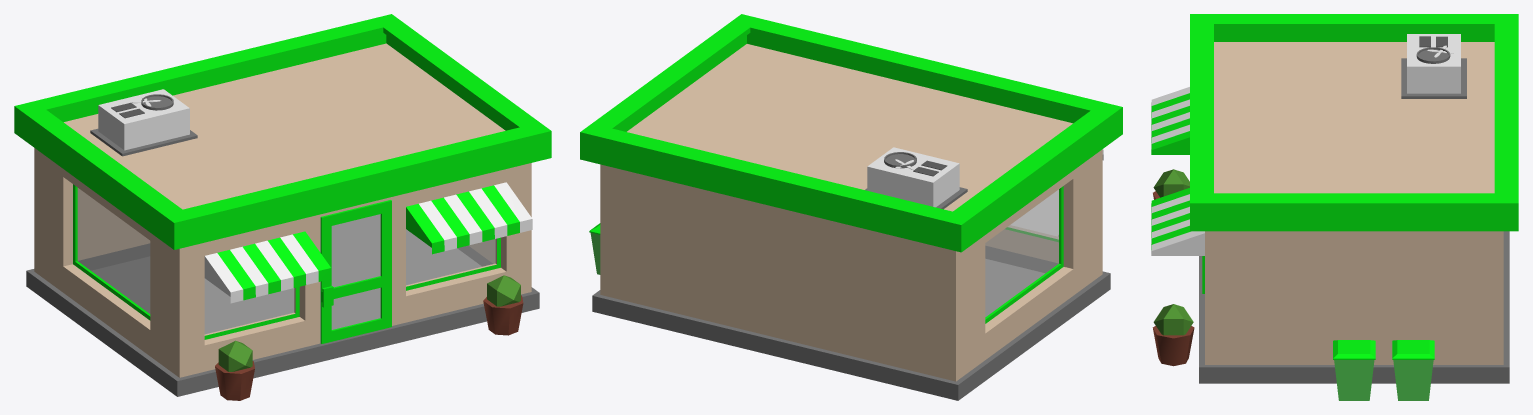
File: small_store3.glb
3 renders of one model, left to right at view 1: azimuth 30°, elevation 25°; view 2: azimuth 150°, elevation 25°; view 3: azimuth 270°, elevation 25°, orthographic. The views are drawn at different scales.
Parts seen in each view (by area): view 1: 3DSMeshMatrix.018, 3DSMeshMatrix.031, 3DSMeshMatrix.029, 3DSMeshMatrix.026, 3DSMeshMatrix.023, 3DSMeshMatrix.005, 3DSMeshMatrix.008, 3DSMeshMatrix.025, 3DSMeshMatrix.024, 3DSMeshMatrix.030, 3DSMeshMatrix.006, 3DSMeshMatrix.013 (+12 smaller); view 2: 3DSMeshMatrix.018, 3DSMeshMatrix.029; view 3: 3DSMeshMatrix.018, 3DSMeshMatrix.029, 3DSMeshMatrix.017, 3DSMeshMatrix.021, 3DSMeshMatrix.023, 3DSMeshMatrix.015, 3DSMeshMatrix.024, 3DSMeshMatrix.022, 3DSMeshMatrix.016, 3DSMeshMatrix.030, 3DSMeshMatrix.025, 3DSMeshMatrix.006 (+1 smaller).
Part boxes in pixels (x1,y1,x2,y2): 3DSMeshMatrix.018: (14,14,551,396); 3DSMeshMatrix.031: (320,200,391,343); 3DSMeshMatrix.029: (98,89,189,150); 3DSMeshMatrix.026: (215,361,254,400); 3DSMeshMatrix.023: (483,295,523,335); 3DSMeshMatrix.005: (204,253,243,303); 3DSMeshMatrix.008: (406,203,444,254); 3DSMeshMatrix.025: (218,340,252,371); 3DSMeshMatrix.024: (487,275,520,306); 3DSMeshMatrix.030: (90,128,197,156); 3DSMeshMatrix.006: (293,231,331,281); 3DSMeshMatrix.013: (469,188,507,238); 3DSMeshMatrix.018: (580,14,1122,400); 3DSMeshMatrix.029: (867,147,959,207); 3DSMeshMatrix.018: (1190,14,1518,383); 3DSMeshMatrix.029: (1407,34,1460,93); 3DSMeshMatrix.017: (1393,360,1433,400); 3DSMeshMatrix.021: (1334,360,1374,400); 3DSMeshMatrix.023: (1152,326,1194,366); 3DSMeshMatrix.015: (1151,231,1204,255); 3DSMeshMatrix.024: (1153,304,1193,335); 3DSMeshMatrix.022: (1333,340,1375,359); 3DSMeshMatrix.016: (1392,340,1434,359); 3DSMeshMatrix.030: (1401,58,1466,98); 3DSMeshMatrix.025: (1153,169,1189,197); 3DSMeshMatrix.006: (1151,131,1189,154).
Bounding box in the file's own units: 81.32 × 35.99 × 61.46.
